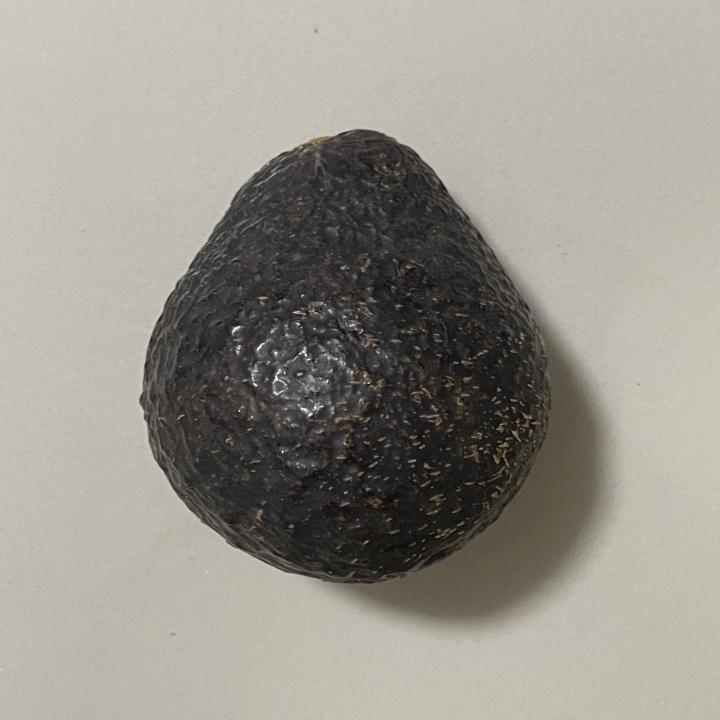Level3: (127, 120, 562, 592)
